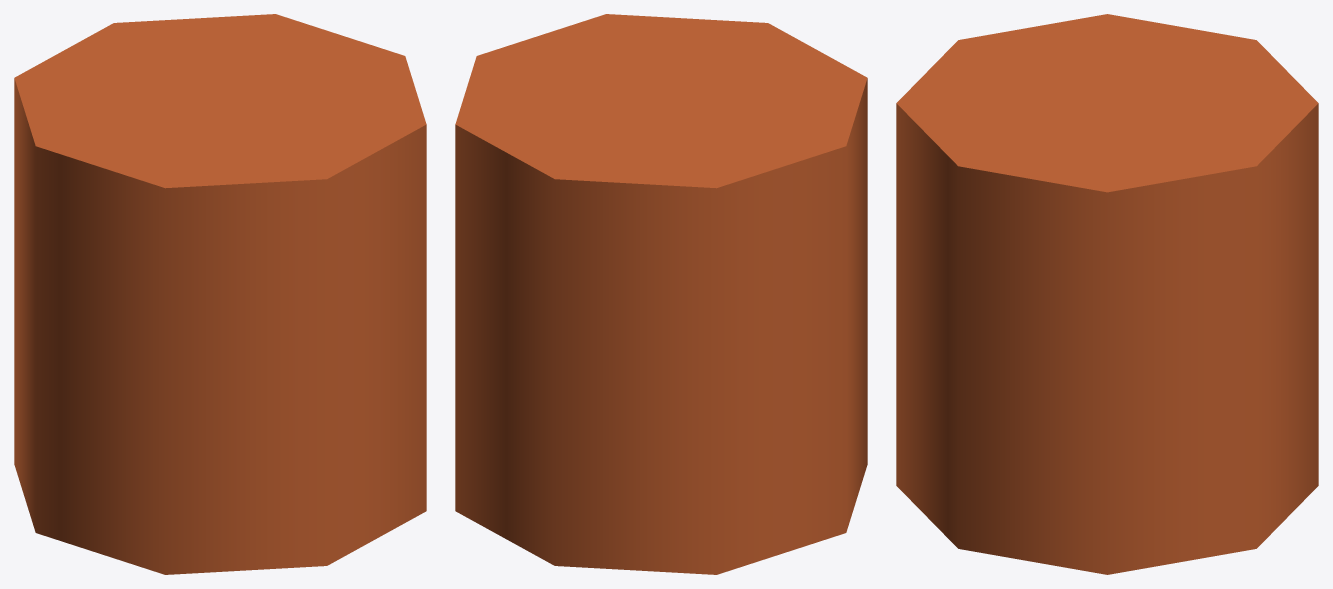
Rendered from after.gltf.
The picture shows the model from 3 angles, left to right: view 1: azimuth 30°, elevation 25°; view 2: azimuth 150°, elevation 25°; view 3: azimuth 270°, elevation 25°; orthographic projection.
Parts seen in each view (by area): view 1: skinnedNode; view 2: skinnedNode; view 3: skinnedNode.
Part boxes in pixels (box(x1,y1,x2,y2)): skinnedNode: box(14, 14, 426, 574); skinnedNode: box(455, 14, 867, 574); skinnedNode: box(896, 14, 1318, 574).
Bounding box in the file's own units: 1 × 1 × 1.
